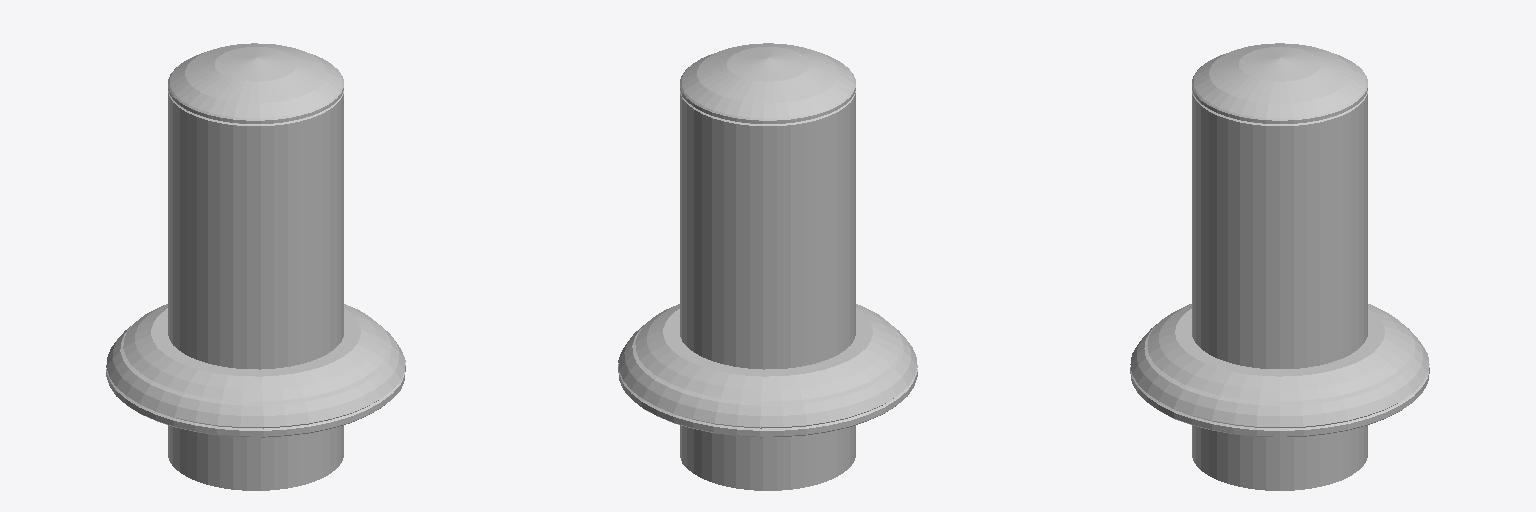
Rendered from MTB_Headset-sharedassets2MTB.assets-17018.obj.
3 renders of one model, left to right at view 1: azimuth 30°, elevation 25°; view 2: azimuth 150°, elevation 25°; view 3: azimuth 270°, elevation 25°, orthographic.
Visible parts, largest first — view 1: MTB_Headset_0.002; view 2: MTB_Headset_0.002; view 3: MTB_Headset_0.002.
Boxes of the visible parts, x1,y1,x2,y2 form: MTB_Headset_0.002: [106, 43, 405, 490]; MTB_Headset_0.002: [618, 43, 917, 490]; MTB_Headset_0.002: [1130, 43, 1429, 490].
Size of the model in its own units: 0.0429 by 0.0626 by 0.0429.